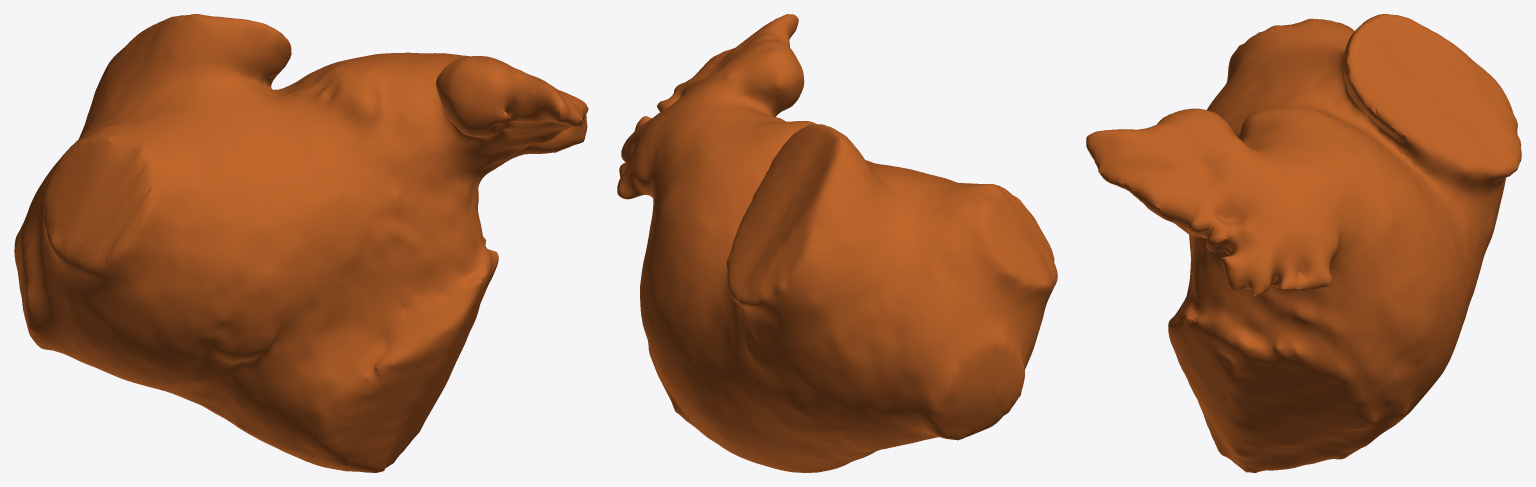
3 renders of one model, left to right at view 1: azimuth 30°, elevation 25°; view 2: azimuth 150°, elevation 25°; view 3: azimuth 270°, elevation 25°, orthographic. The views are drawn at different scales.
Parts seen in each view (by area): view 1: HALBERT LOIS W_LALAA_001; view 2: HALBERT LOIS W_LALAA_001; view 3: HALBERT LOIS W_LALAA_001.
Boxes of the visible parts, box(x1,y1,x2,y2) form: HALBERT LOIS W_LALAA_001: box(14, 14, 588, 472); HALBERT LOIS W_LALAA_001: box(617, 14, 1057, 472); HALBERT LOIS W_LALAA_001: box(1086, 14, 1521, 472).
Size of the model in its own units: 80.2 by 65.2 by 64.01.
